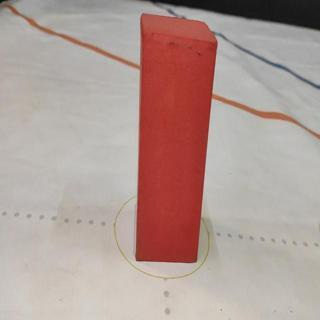redbox: (135, 11, 217, 264)
